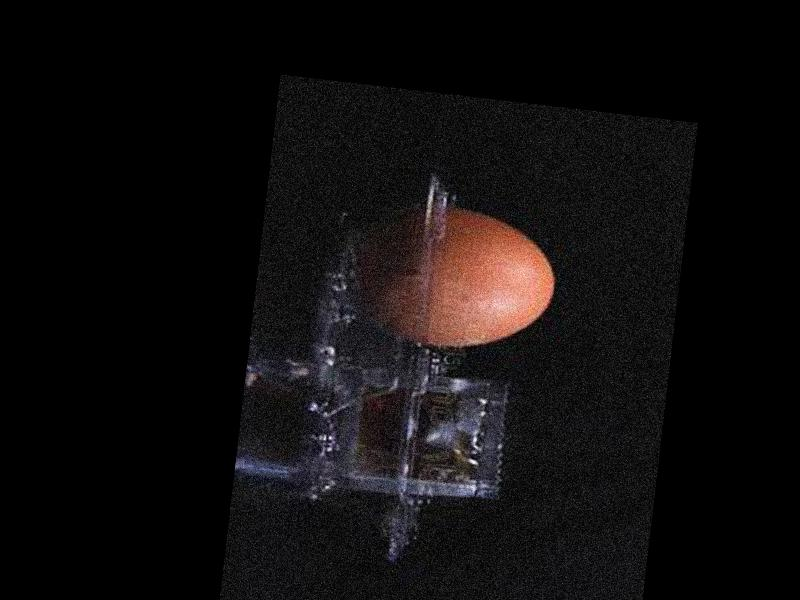Eggs: (340, 193, 561, 357)
